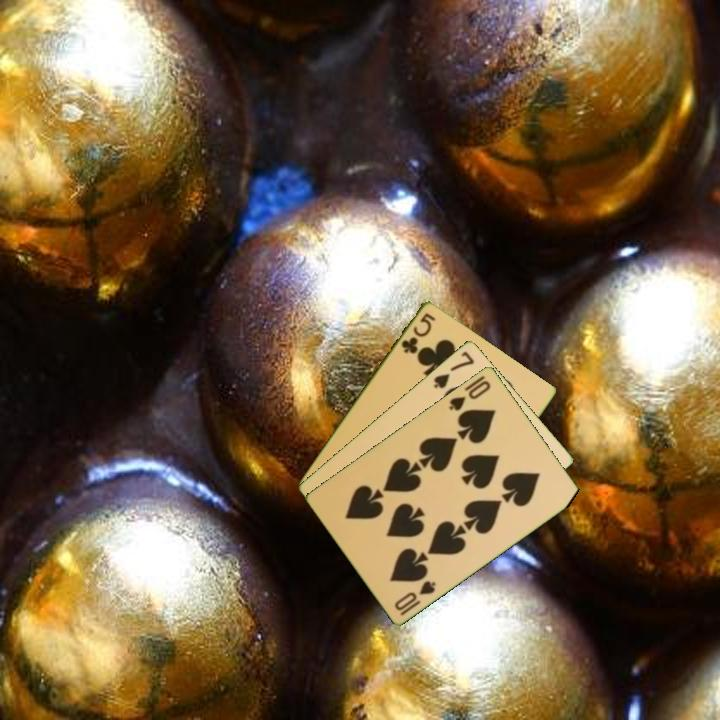10s: (391, 576, 439, 618), (445, 376, 493, 413)
5c: (397, 309, 438, 356)
7s: (430, 347, 477, 391)
